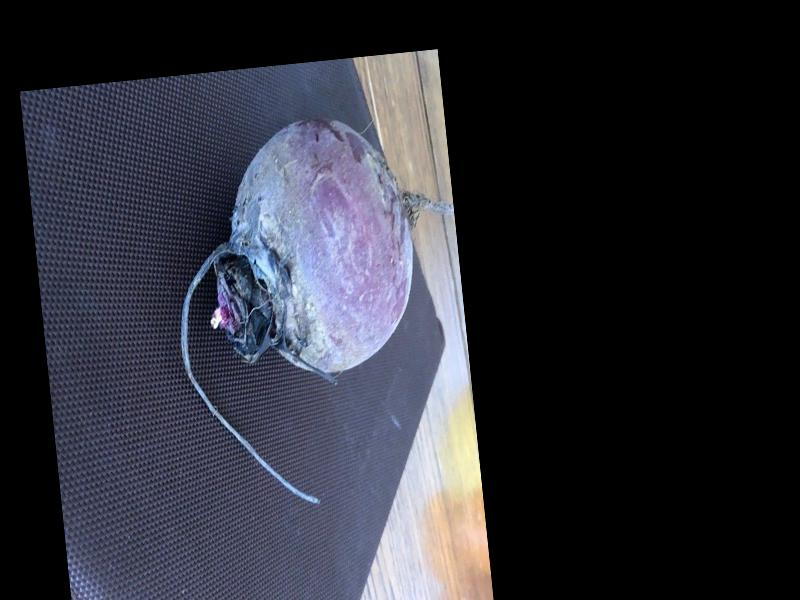Beet: (159, 104, 481, 516)
